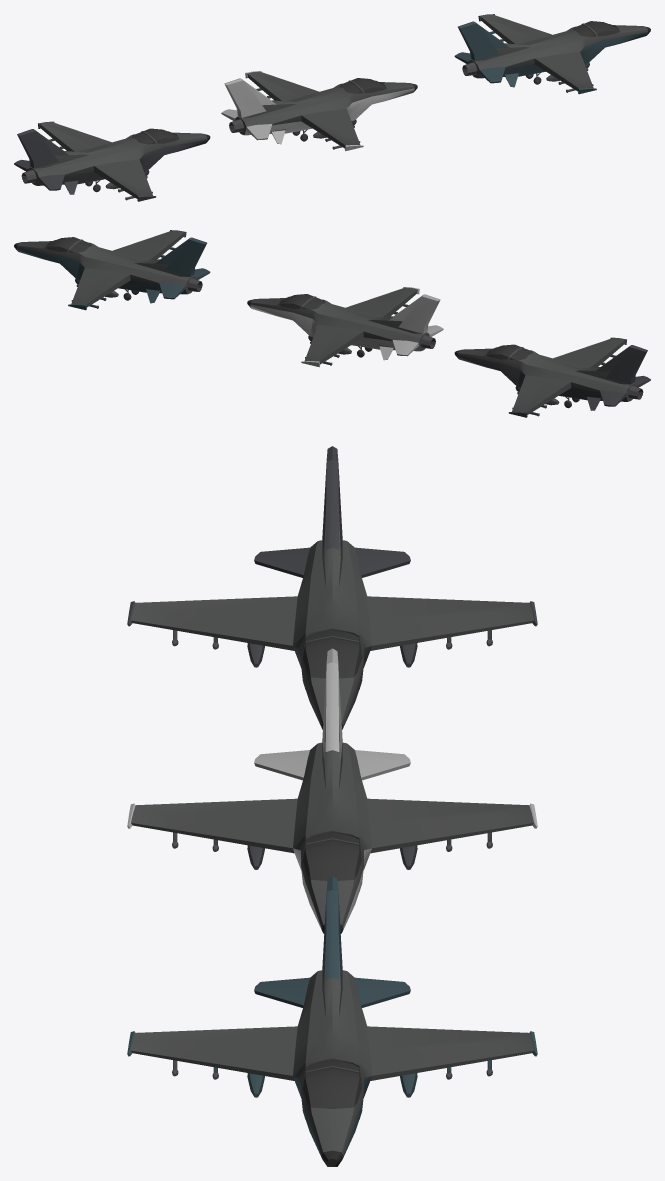
Rendered from AirFight knight .fbx.
3 views of the same model, one above another, from view 1: azimuth 30°, elevation 25°; view 2: azimuth 150°, elevation 25°; view 3: azimuth 270°, elevation 25° (orthographic). The views are drawn at different scales.
Visible parts, largest first — view 1: Cube.020, Cube.010, Cube; view 2: Cube.010, Cube.020, Cube; view 3: Cube.020, Cube.010, Cube.
Part boxes in pixels (x1,y1,x2,y2): Cube.020: [454, 14, 650, 94]; Cube.010: [221, 71, 417, 151]; Cube: [14, 121, 210, 201]; Cube.010: [247, 287, 443, 367]; Cube.020: [14, 230, 210, 310]; Cube: [454, 337, 650, 417]; Cube.020: [127, 876, 537, 1166]; Cube.010: [127, 648, 537, 933]; Cube: [127, 446, 537, 729].
Size of the model in its own units: 24.41 by 2.73 by 6.86.
